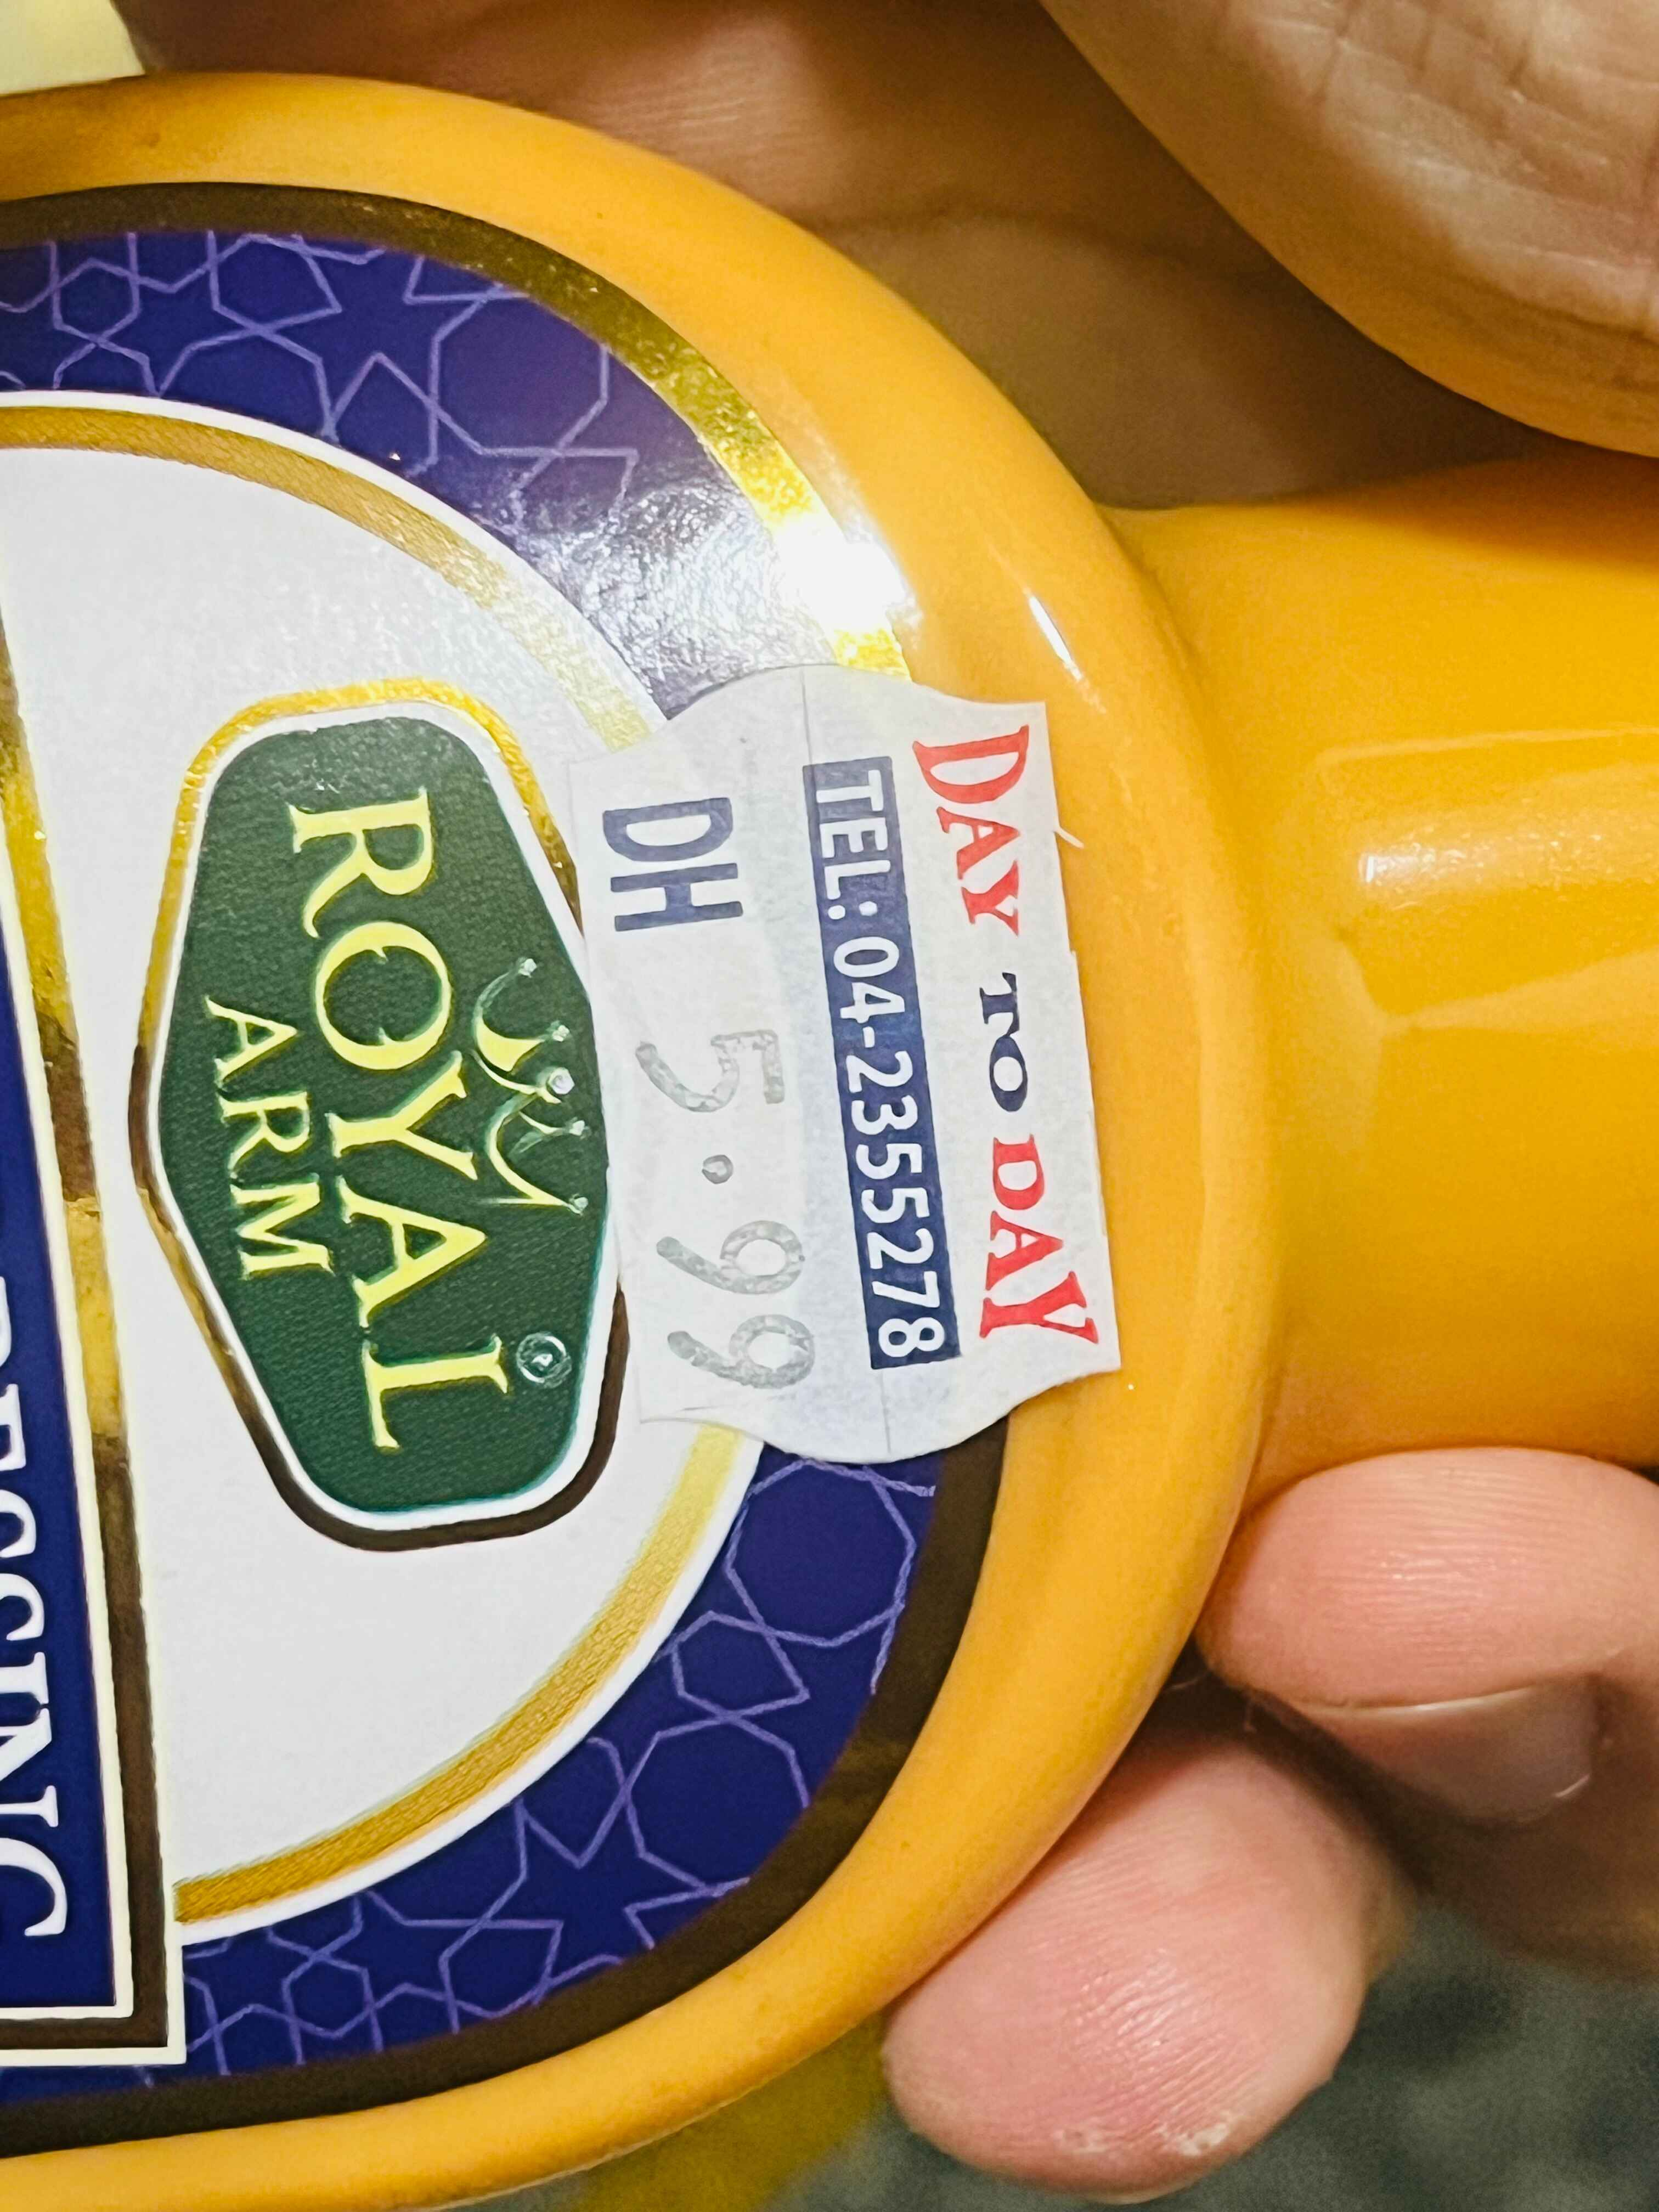PriceTagSmall: (579, 657, 1115, 1453)
